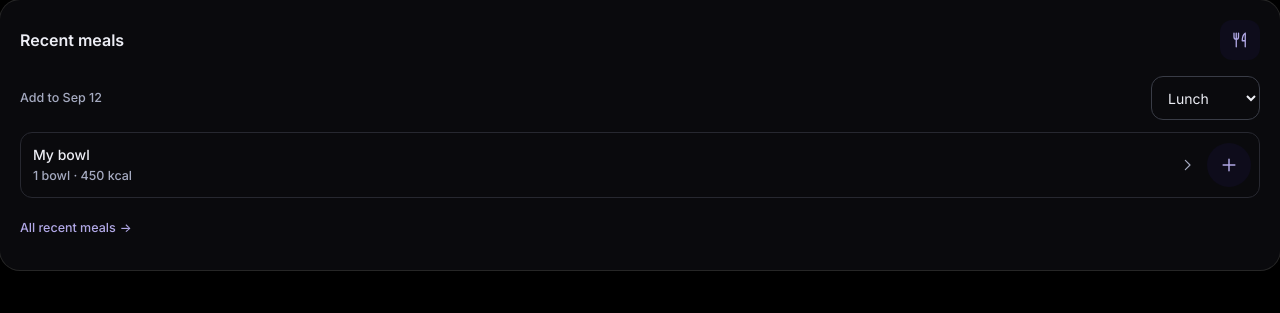
it: repeat meal action › gives an actionable failure without claiming a meal was added
This screenshot has width=1280, height=313.
Click the button with test id "repeat-meal" at (1229, 165), box [1207, 143, 1251, 187]
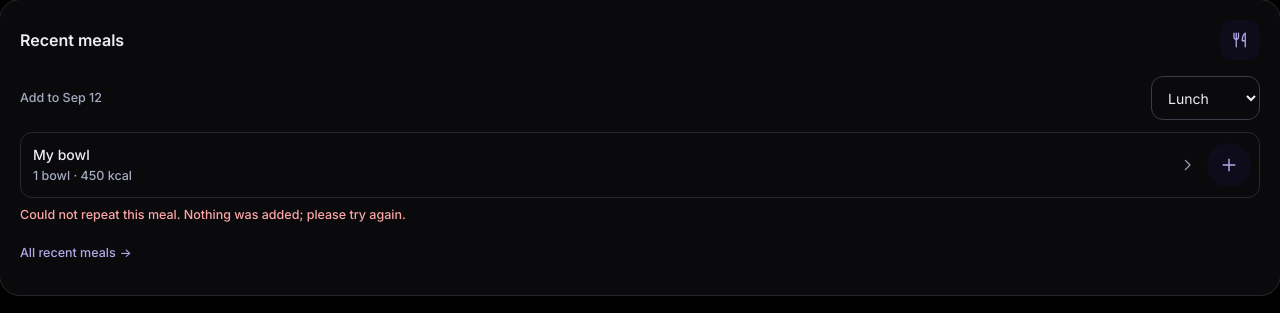
Expected: the message shows "Nothing was added", [20, 206, 406, 222]
